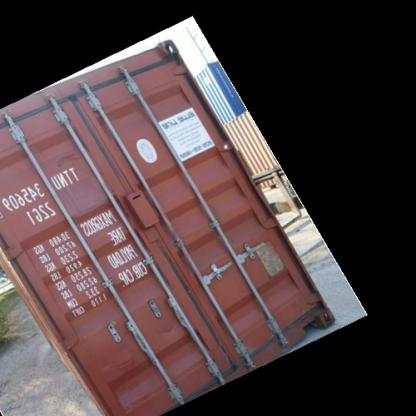Damage: (91, 349, 139, 379), (48, 144, 93, 170), (149, 317, 182, 339)
